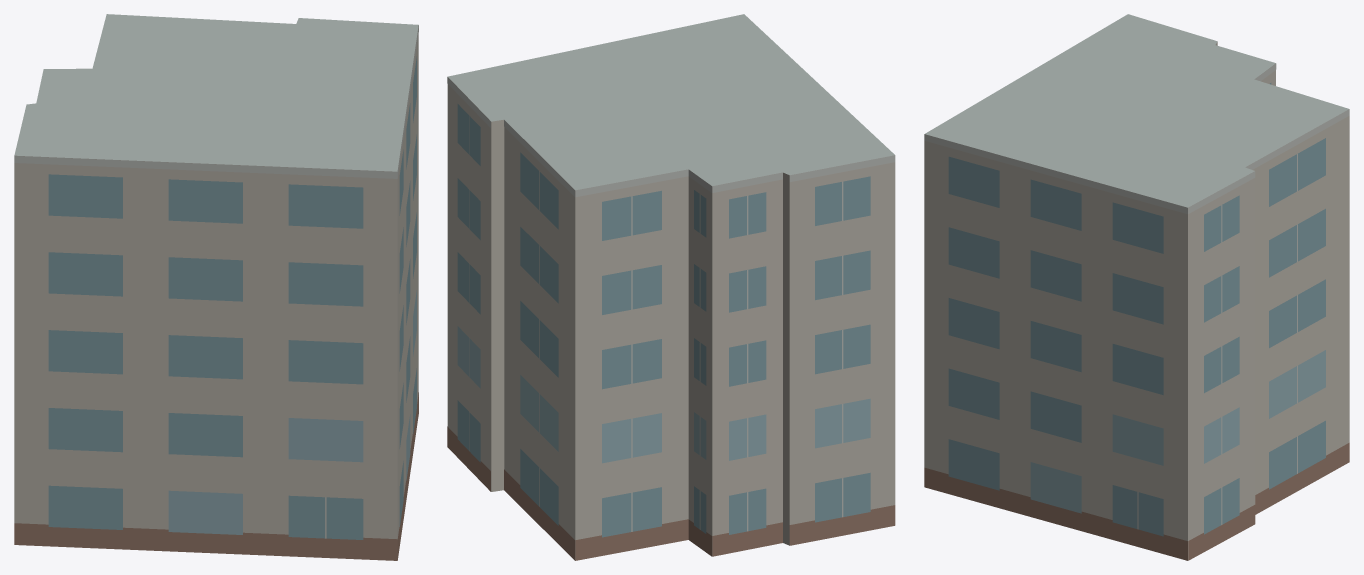
File: survey-upis-32821139.glb
3 renders of one model, left to right at view 1: azimuth 30°, elevation 25°; view 2: azimuth 150°, elevation 25°; view 3: azimuth 270°, elevation 25°, orthographic. The views are drawn at different scales.
Visible parts, largest first — view 1: survey-upis-32821139.tmp; view 2: survey-upis-32821139.tmp; view 3: survey-upis-32821139.tmp.
Part boxes in pixels (x1=…): survey-upis-32821139.tmp: x1=14, y1=14, x2=418, y2=560; survey-upis-32821139.tmp: x1=447, y1=14, x2=895, y2=560; survey-upis-32821139.tmp: x1=924, y1=14, x2=1349, y2=560.
Size of the model in its own units: 15.3 by 13 by 14.19.
